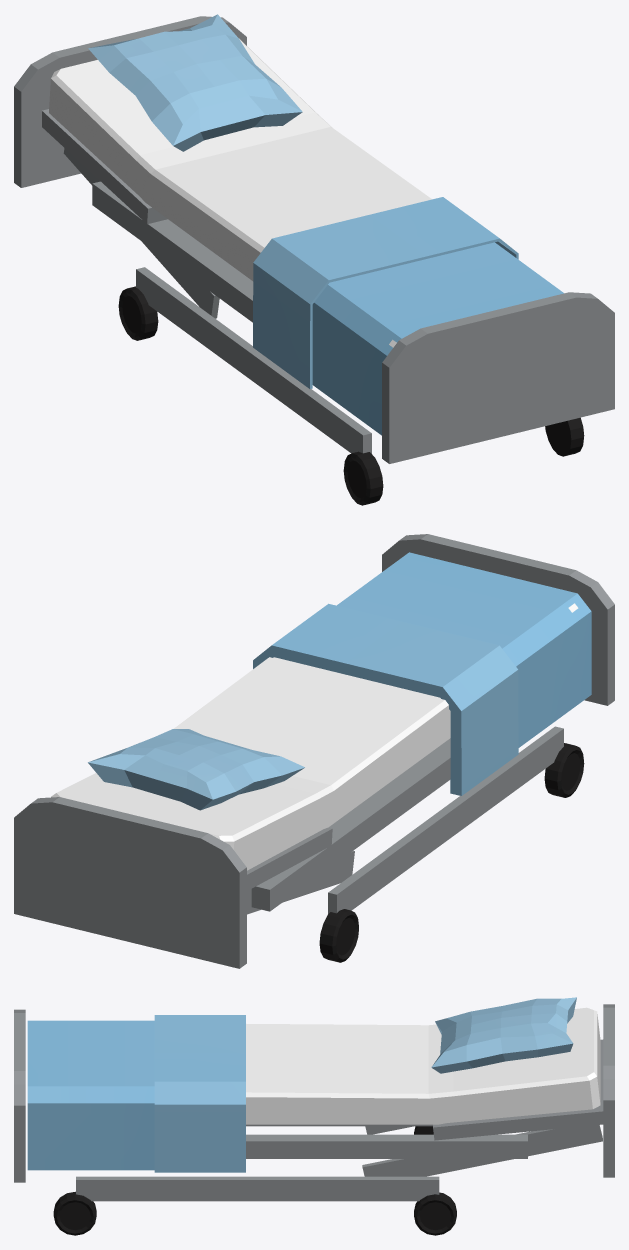
File: bed3.fbx
3 views of the same model, one above another, from view 1: azimuth 30°, elevation 25°; view 2: azimuth 150°, elevation 25°; view 3: azimuth 270°, elevation 25° (orthographic). The views are drawn at different scales.
Parts seen in each view (by area): view 1: MSH_Bed3; view 2: MSH_Bed3; view 3: MSH_Bed3.
Boxes of the visible parts, left/top/right/bottom form: MSH_Bed3: left=14, top=14, right=614, bottom=505; MSH_Bed3: left=14, top=534, right=614, bottom=968; MSH_Bed3: left=14, top=997, right=614, bottom=1235.
Bounding box in the file's own units: 7.19 × 6.89 × 20.74.
